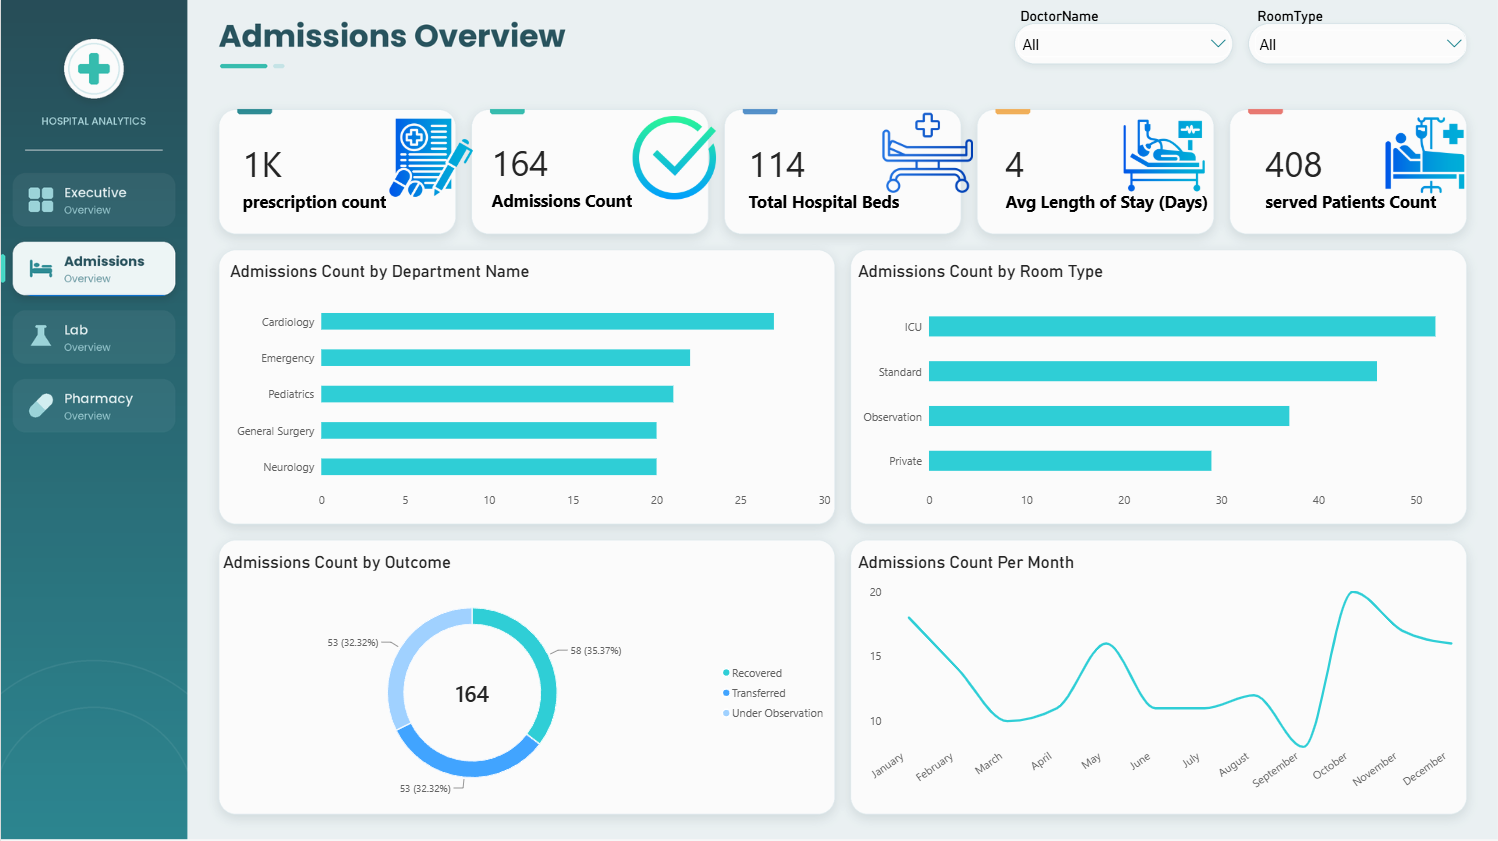

This screenshot's page, from the dashboard's own definition file:
{"tool":"powerbi","page":{"name":"Admissions & Clinic Operations","canvas":[1920,1080],"ordinal":1},"visuals":[{"type":"cardVisual","fields":{"Data":["Dax_measures.prescription count"]},"box":[294.2,140.5,307.4,172.3],"z":0},{"type":"cardVisual","fields":{"Data":["Dax_measures.Admissions Count"]},"box":[612.7,140.3,314,172.3],"z":1000},{"type":"cardVisual","fields":{"Data":["Dax_measures.Avg Length of Stay (Days)"]},"box":[1272,140.5,308.7,172.3],"z":2000},{"type":"cardVisual","fields":{"Data":["Dax_measures.Total Hospital Beds"]},"box":[942.1,140.5,310.1,172.3],"z":3000},{"type":"cardVisual","fields":{"Data":["Dax_measures.served Patients Count"]},"box":[1604.6,140.5,296.8,172.3],"z":4000},{"type":"clusteredBarChart","title":"Admissions Count by Department Name","fields":{"Category":["dim_departments.DepartmentName"],"Y":["Dax_measures.Admissions Count"]},"box":[294.2,376.4,789.2,322.6],"z":5000},{"type":"clusteredBarChart","title":"Admissions Count by Room Type","fields":{"Category":["dim_rooms.RoomType"],"Y":["Dax_measures.Admissions Count"]},"box":[1115.7,376.3,785.8,322],"z":6000},{"type":"donutChart","fields":{"Category":["dim_admissions.Outcome"],"Y":["Dax_measures.Admissions Count"]},"box":[304.8,739.4,779.1,320.7],"z":7000},{"type":"lineChart","title":"Admissions Count Per Month","fields":{"Category":["dim_admissions.DischargeDate.Variation.Date Hierarchy.Month"],"Y":["Dax_measures.Admissions Count"]},"box":[1115,740.2,786,321.1],"z":8000},{"type":"slicer","fields":{"Values":["dim_doctors.DoctorName"]},"box":[1279.3,28.9,294.2,64.8],"z":9000},{"type":"slicer","fields":{"Values":["dim_rooms.RoomType"]},"box":[1606.6,28.9,293.9,77.9],"z":10000},{"type":"pageNavigator","box":[10.1,247,262.9,645.8],"z":11000},{"type":"image","box":[476.7,150.5,149.3,107.1],"z":11001},{"type":"image","box":[1114.7,137.2,148.1,120.4],"z":11002},{"type":"image","box":[798.3,150.1,129.4,107.4],"z":11003},{"type":"image","box":[1410.8,149.3,162.5,103.5],"z":11004},{"type":"image","box":[1750.3,150.5,150.5,101.1],"z":11005}]}

Visuals, with their boxes on the page's 1920x1080 design canvas (x1, y1, x2, y2). These are canvas units, not pixel positions in the 1498x841 screenshot, which may show the page scaled, cropped or inside an application window:
cardVisual - Dax_measures.prescription count: <region>294, 140, 602, 313</region>
cardVisual - Dax_measures.Admissions Count: <region>613, 140, 927, 313</region>
cardVisual - Dax_measures.Avg Length of Stay (Days): <region>1272, 140, 1581, 313</region>
cardVisual - Dax_measures.Total Hospital Beds: <region>942, 140, 1252, 313</region>
cardVisual - Dax_measures.served Patients Count: <region>1605, 140, 1901, 313</region>
"Admissions Count by Department Name" clusteredBarChart: <region>294, 376, 1083, 699</region>
"Admissions Count by Room Type" clusteredBarChart: <region>1116, 376, 1902, 698</region>
donutChart - dim_admissions.Outcome x Dax_measures.Admissions Count: <region>305, 739, 1084, 1060</region>
"Admissions Count Per Month" lineChart: <region>1115, 740, 1901, 1061</region>
slicer - dim_doctors.DoctorName: <region>1279, 29, 1574, 94</region>
slicer - dim_rooms.RoomType: <region>1607, 29, 1900, 107</region>
pageNavigator: <region>10, 247, 273, 893</region>
image: <region>477, 150, 626, 258</region>
image: <region>1115, 137, 1263, 258</region>
image: <region>798, 150, 928, 258</region>
image: <region>1411, 149, 1573, 253</region>
image: <region>1750, 150, 1901, 252</region>
